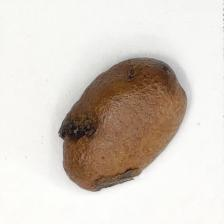NG: (53, 112, 101, 147), (92, 168, 141, 192)
